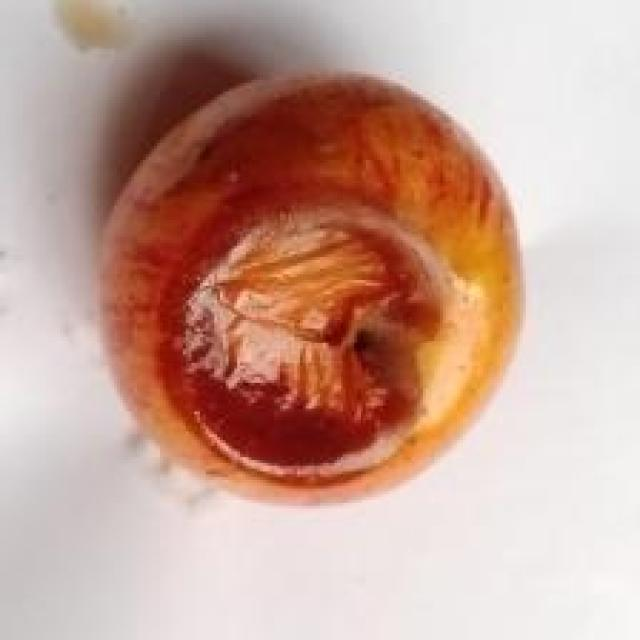rotten apple: (52, 48, 562, 544)
